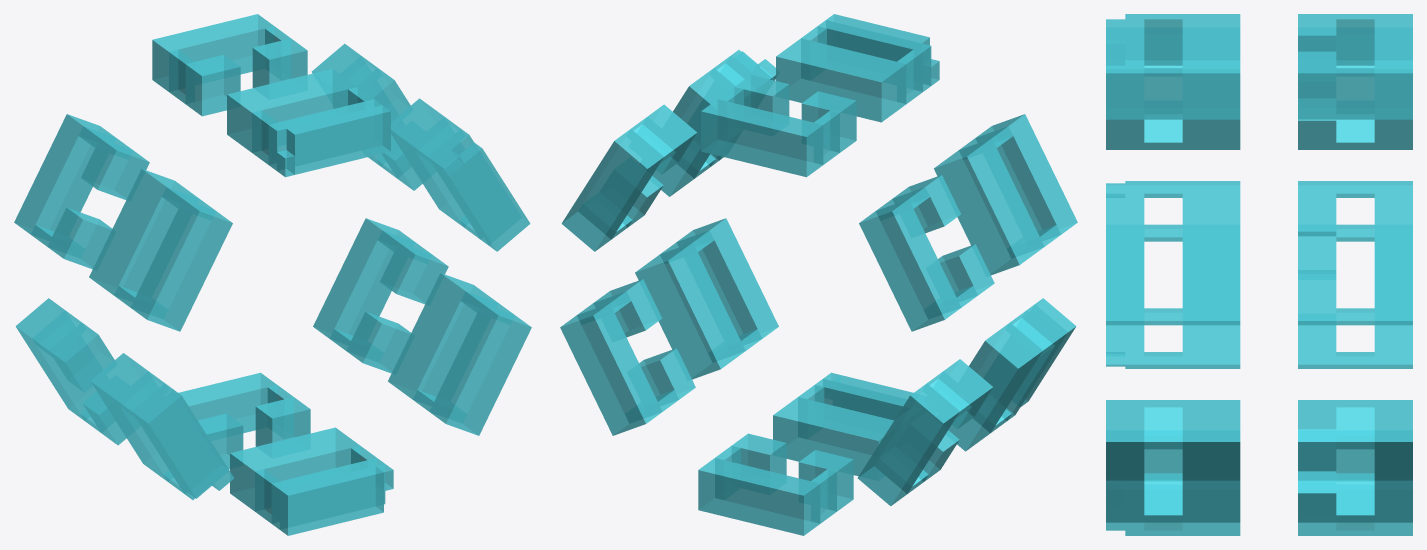
The model's file is moving_safe_installed.glb.
The picture shows the model from 3 angles, left to right: view 1: azimuth 30°, elevation 25°; view 2: azimuth 150°, elevation 25°; view 3: azimuth 270°, elevation 25°; orthographic projection. The views are drawn at different scales.
Visible parts, largest first — view 1: door2_patch8, door5_patch8, door5_patch5, door2_patch5, door2_patch0, door5_patch0, door4_patch6, door1_patch10, door4_patch10, door1_patch6, door3_patch10, door0_patch10 (+29 smaller); view 2: door5_patch5, door2_patch5, door2_patch0, door5_patch0, door1_patch6, door4_patch1, door1_patch1, door0_patch1, door3_patch1, door4_patch6, door5_patch8, door2_patch8 (+35 smaller); view 3: door0_patch6, door5_patch5, door1_patch6, door0_patch1, door5_patch8, door5_patch0, door1_patch1, door0_patch9, door5_patch4, door1_patch4, door0_patch10, door3_patch6 (+40 smaller).
Boxes of the visible parts, x1,y1,x2,y2 form: door2_patch8: [130, 199, 232, 331]; door5_patch8: [429, 303, 531, 435]; door5_patch5: [388, 273, 497, 404]; door2_patch5: [89, 169, 198, 295]; door2_patch0: [14, 114, 115, 234]; door5_patch0: [313, 218, 414, 340]; door4_patch6: [230, 427, 359, 511]; door1_patch10: [286, 105, 390, 174]; door4_patch10: [280, 466, 383, 535]; door1_patch6: [227, 69, 356, 152]; door3_patch10: [140, 389, 229, 498]; door0_patch10: [441, 142, 530, 251]; door5_patch5: [635, 242, 745, 379]; door2_patch5: [934, 138, 1044, 275]; door2_patch0: [859, 199, 961, 331]; door5_patch0: [560, 303, 662, 435]; door1_patch6: [776, 38, 906, 122]; door4_patch1: [698, 458, 820, 535]; door1_patch1: [701, 99, 823, 177]; door0_patch1: [561, 129, 663, 251]; door3_patch1: [857, 383, 959, 506]; door4_patch6: [773, 397, 893, 476]; door5_patch8: [677, 218, 778, 345]; door2_patch8: [976, 114, 1077, 240]; door0_patch6: [1182, 181, 1240, 325]; door5_patch5: [1182, 400, 1240, 522]; door1_patch6: [1182, 14, 1240, 119]; door0_patch1: [1374, 181, 1412, 325]; door5_patch8: [1106, 400, 1144, 522]; door5_patch0: [1374, 400, 1412, 522]; door1_patch1: [1374, 14, 1412, 119]; door0_patch9: [1125, 181, 1144, 325]; door5_patch4: [1298, 400, 1336, 471]; door1_patch4: [1298, 51, 1336, 119]; door0_patch10: [1106, 193, 1125, 325]; door3_patch6: [1182, 325, 1240, 368].
Size of the model in its own units: 401 by 398 by 240.
